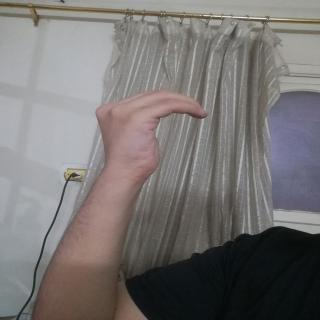HAA: (88, 85, 214, 179)
